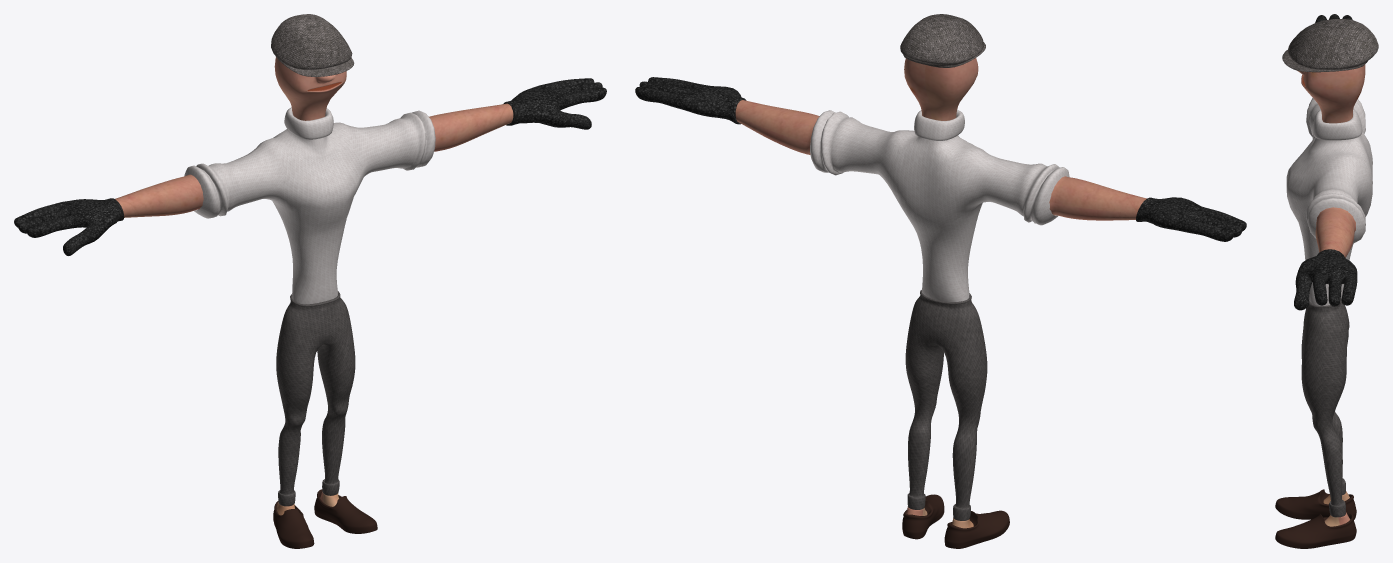
The model's file is staff.glb.
3 views of the same model, side by side, from view 1: azimuth 30°, elevation 25°; view 2: azimuth 150°, elevation 25°; view 3: azimuth 270°, elevation 25° (orthographic). The views are drawn at different scales.
Visible parts, largest first — view 1: polySurface6; view 2: polySurface6; view 3: polySurface6.
Part boxes in pixels (x1=…): polySurface6: x1=14, y1=14, x2=606, y2=548; polySurface6: x1=635, y1=14, x2=1246, y2=548; polySurface6: x1=1275, y1=14, x2=1378, y2=548.
Bounding box in the file's own units: 0.059 × 0.0486 × 0.00902.
1 material, 1 textured.
